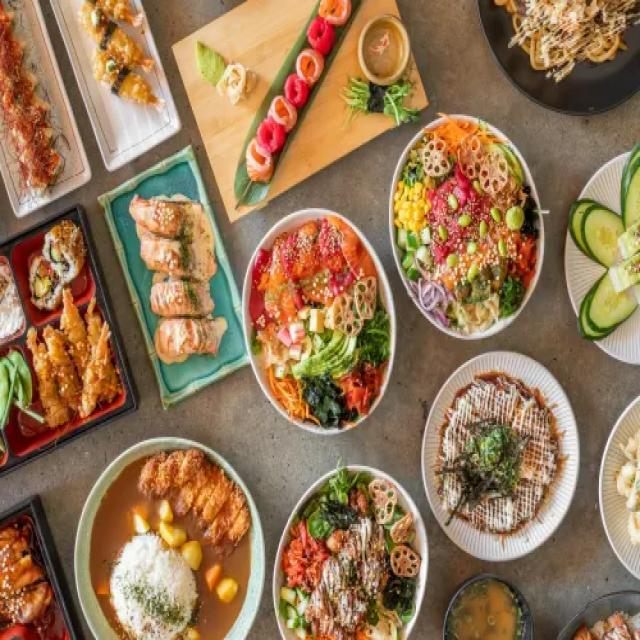com: (83, 456, 242, 640)
do chien: (0, 214, 82, 440), (0, 13, 37, 216), (90, 8, 146, 126)
do ngot: (430, 362, 570, 556)
do nuong: (143, 178, 198, 413)
do song: (232, 0, 367, 211)
rau thap cam: (407, 133, 532, 341), (261, 208, 372, 416), (283, 478, 404, 640)
